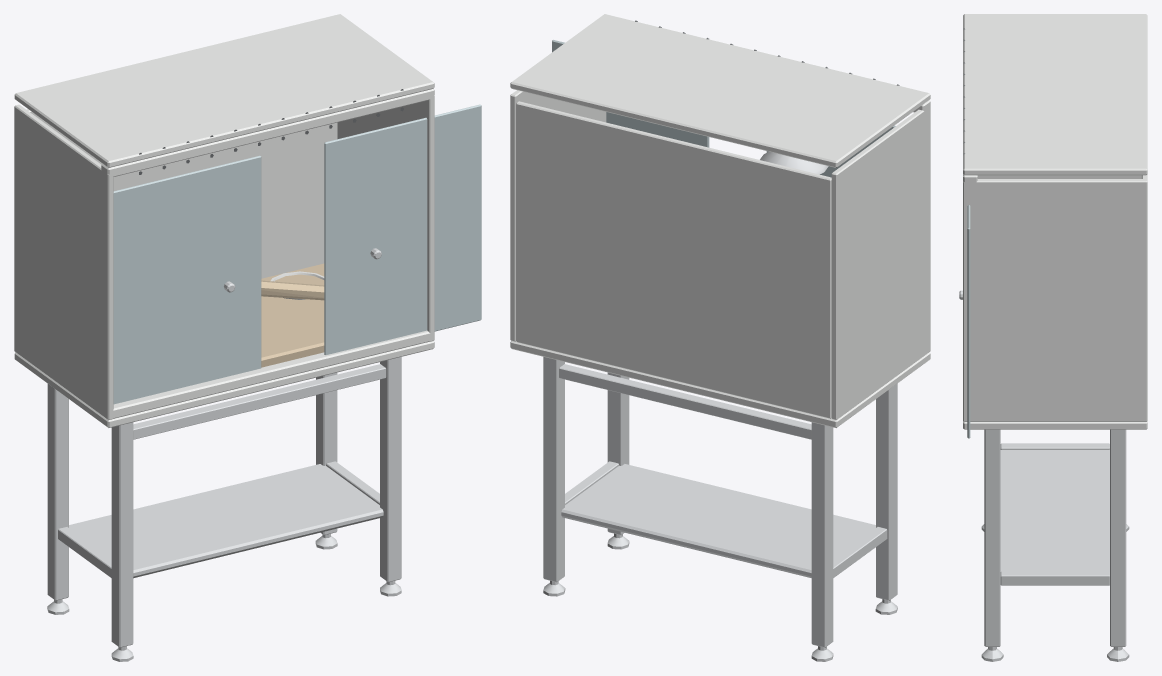
The model's file is clinic-and-veterinary-practice-exotic-vivarium-unit-60c5e893__16814.glb.
3 views of the same model, side by side, from view 1: azimuth 30°, elevation 25°; view 2: azimuth 150°, elevation 25°; view 3: azimuth 270°, elevation 25° (orthographic). The views are drawn at different scales.
Parts seen in each view (by area): view 1: exotic-vivarium-unit; view 2: exotic-vivarium-unit; view 3: exotic-vivarium-unit.
Part boxes in pixels (<box>): exotic-vivarium-unit: <box>14,14,481,661</box>; exotic-vivarium-unit: <box>510,14,930,661</box>; exotic-vivarium-unit: <box>959,14,1147,661</box>.
Size of the model in its own units: 1.15 by 1.5 by 0.5101.
